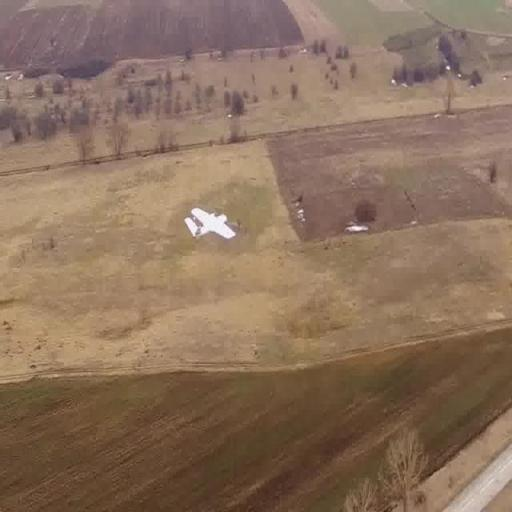uav: (182, 188, 240, 252)
